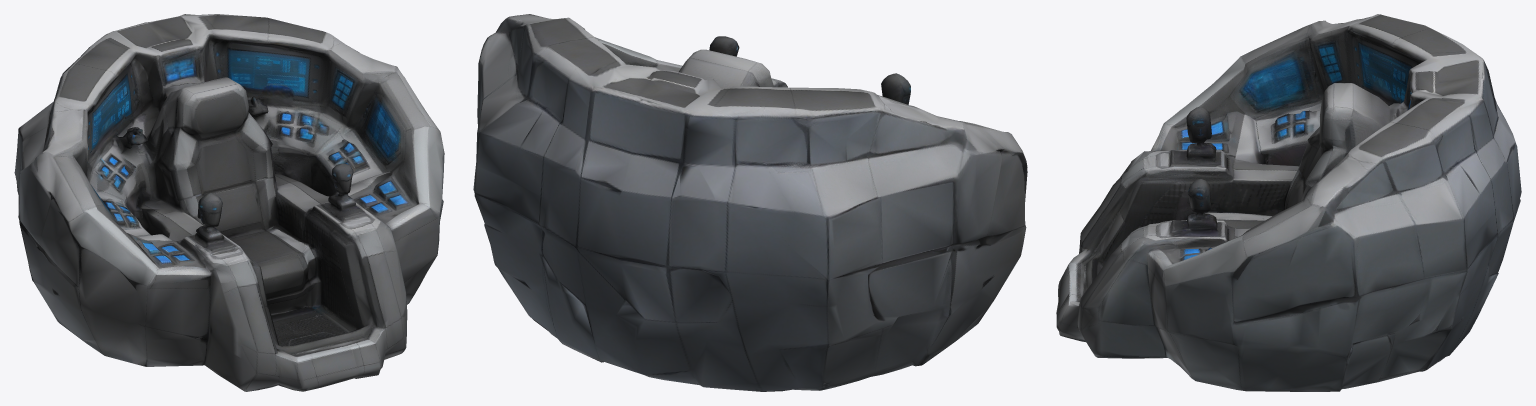
The model's file is Meshy_AI_Polygonal_Command_Pod_0806083357_texture.fbx.
3 renders of one model, left to right at view 1: azimuth 30°, elevation 25°; view 2: azimuth 150°, elevation 25°; view 3: azimuth 270°, elevation 25°, orthographic. The views are drawn at different scales.
Parts seen in each view (by area): view 1: Mesh_0; view 2: Mesh_0; view 3: Mesh_0.
Part boxes in pixels (left/top/right/bottom): Mesh_0: left=14, top=14, right=444, bottom=391; Mesh_0: left=473, top=14, right=1027, bottom=391; Mesh_0: left=1056, top=14, right=1521, bottom=391.
Size of the model in its own units: 200 by 113 by 198.
Materials: 1 (1 with a texture image).
